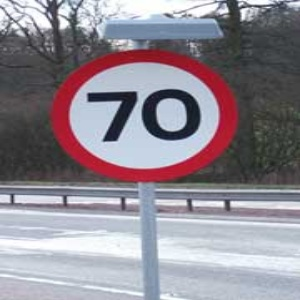70 speed: (50, 50, 238, 181)
